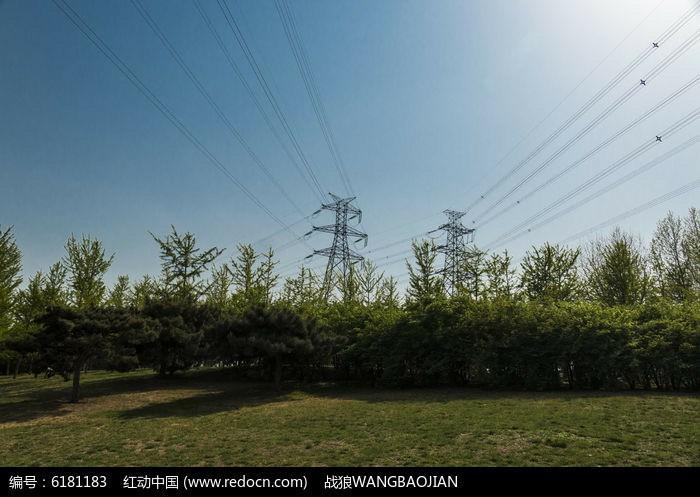power_tower: (307, 185, 379, 297), (435, 199, 480, 297)
